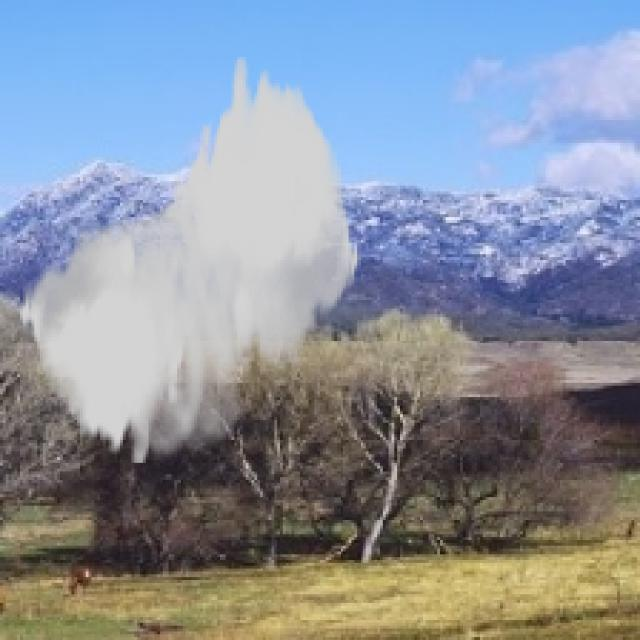Smoke: (17, 57, 360, 466)
